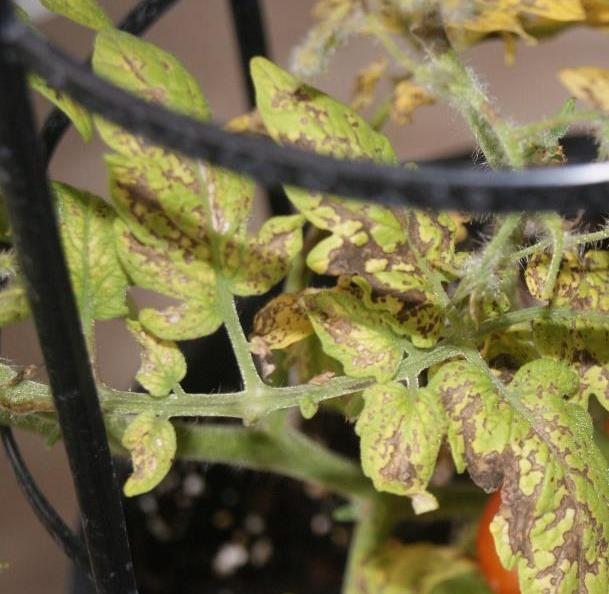Tomato leaf bacterial spot: (88, 27, 294, 361), (229, 41, 453, 309), (422, 334, 609, 594), (533, 241, 609, 435), (351, 373, 442, 514)
